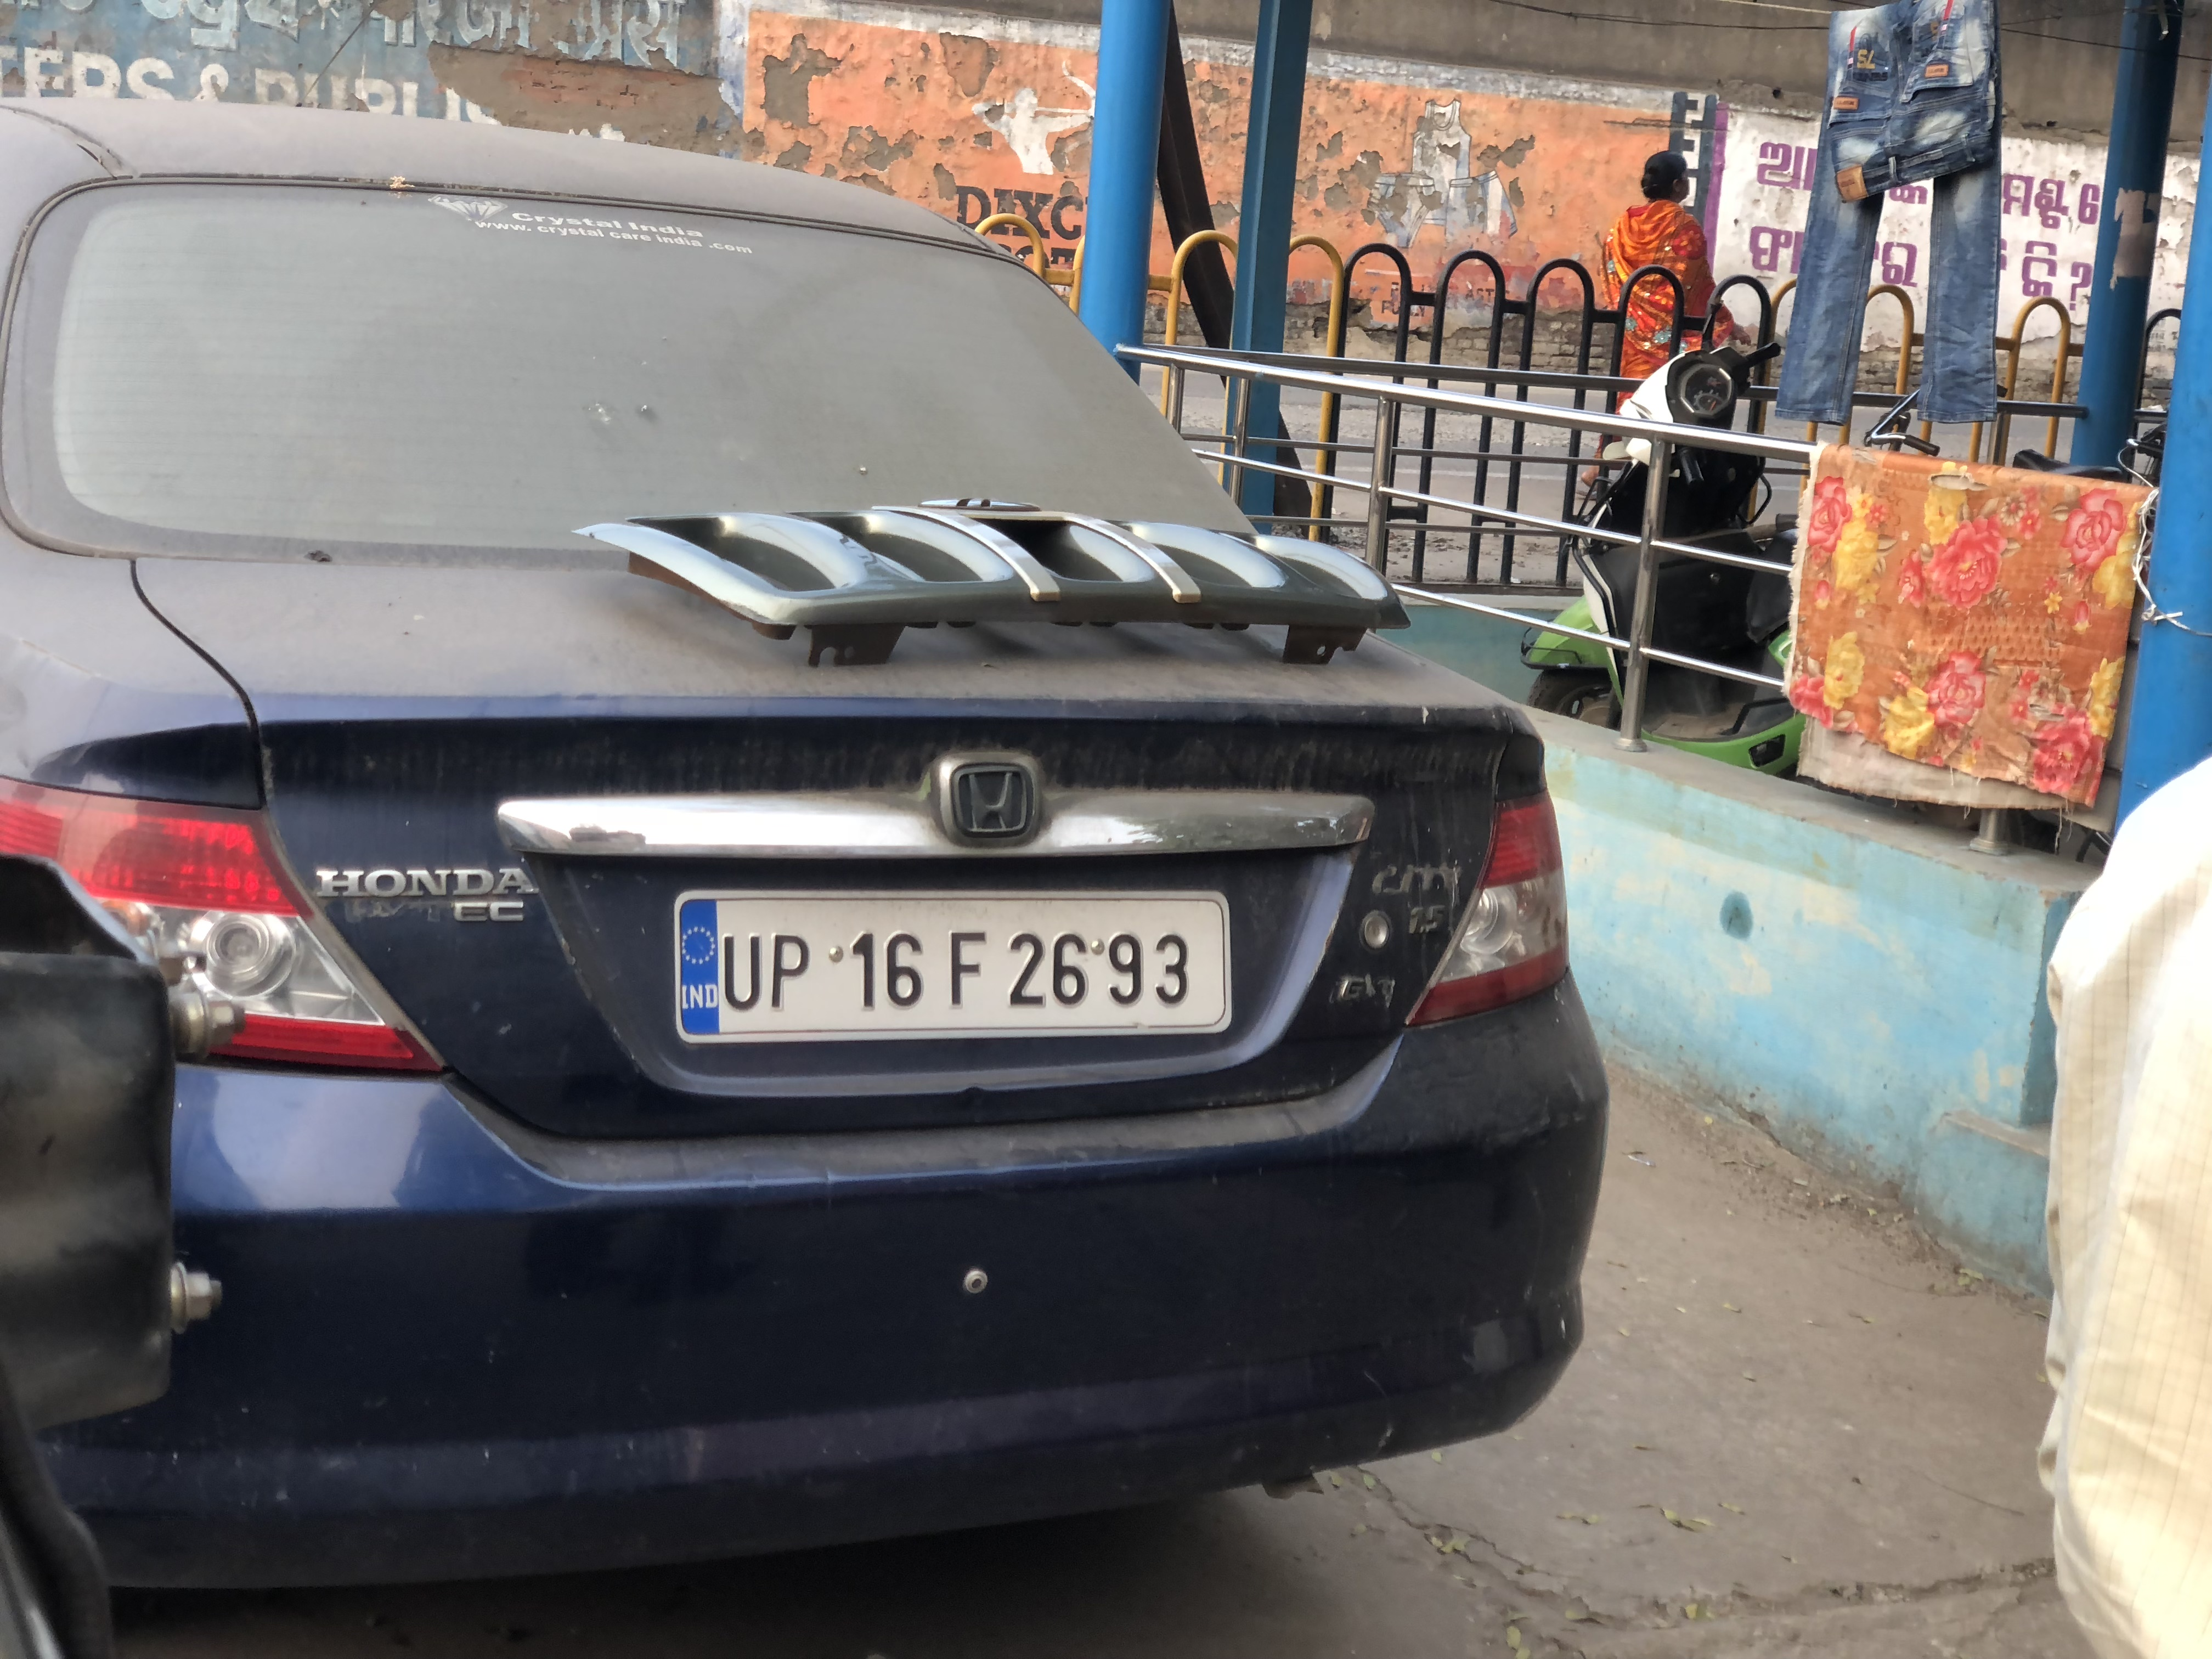licenseplate: (664, 882, 1234, 1045)
